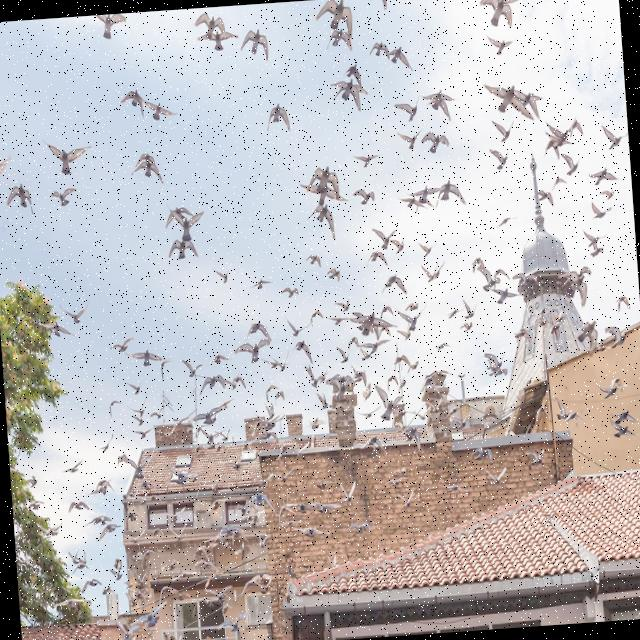bird: (482, 78, 542, 124), (164, 205, 208, 261), (42, 134, 94, 176), (298, 163, 348, 205), (192, 10, 240, 52), (313, 0, 354, 45), (328, 71, 369, 114), (368, 38, 414, 75), (558, 264, 594, 310), (542, 119, 580, 160), (396, 183, 438, 216), (470, 254, 503, 294), (305, 200, 336, 242), (129, 150, 164, 187), (477, 0, 521, 29), (422, 88, 458, 123), (238, 26, 270, 63), (114, 612, 156, 640), (124, 345, 170, 369), (4, 181, 34, 217), (575, 318, 600, 359), (434, 176, 466, 208), (238, 570, 273, 598), (232, 339, 268, 366), (264, 101, 292, 134), (58, 298, 91, 326), (118, 88, 146, 121), (392, 94, 422, 124), (218, 611, 249, 640), (596, 375, 630, 401), (600, 121, 629, 151), (95, 13, 127, 40), (582, 226, 609, 258), (554, 394, 582, 424), (144, 98, 178, 122), (395, 124, 426, 150), (324, 25, 352, 53), (420, 130, 450, 156), (378, 272, 408, 298), (261, 348, 292, 373), (196, 372, 228, 396), (246, 319, 272, 348), (490, 116, 516, 144), (483, 349, 508, 378), (486, 32, 516, 56), (587, 165, 619, 187), (372, 225, 399, 251), (421, 258, 447, 284), (0, 153, 14, 199), (210, 260, 234, 286), (50, 186, 78, 208), (108, 334, 136, 356), (95, 521, 122, 543), (603, 324, 626, 349), (560, 151, 582, 177), (352, 151, 382, 170), (494, 285, 522, 305), (352, 185, 376, 208), (488, 146, 510, 171), (88, 477, 114, 498), (611, 420, 638, 440), (50, 319, 77, 339), (180, 356, 203, 379), (484, 465, 508, 487), (294, 338, 314, 364), (416, 238, 438, 260), (590, 198, 612, 220), (116, 452, 139, 472), (365, 249, 388, 268), (264, 384, 285, 404), (96, 432, 115, 454), (333, 292, 352, 314), (158, 356, 174, 382), (248, 276, 275, 291), (61, 458, 84, 475), (206, 351, 230, 367), (461, 297, 478, 319), (614, 293, 630, 316), (110, 556, 124, 582), (512, 325, 531, 344), (536, 188, 554, 208), (148, 402, 166, 422), (68, 498, 90, 514), (90, 512, 112, 528), (304, 252, 322, 270), (124, 378, 142, 396), (228, 374, 246, 392), (495, 214, 518, 228), (107, 398, 123, 418), (392, 235, 406, 256), (280, 285, 300, 299), (123, 509, 138, 527), (315, 390, 328, 410), (326, 266, 341, 282), (598, 187, 615, 201), (368, 0, 387, 10), (160, 630, 178, 640), (100, 585, 114, 596)
